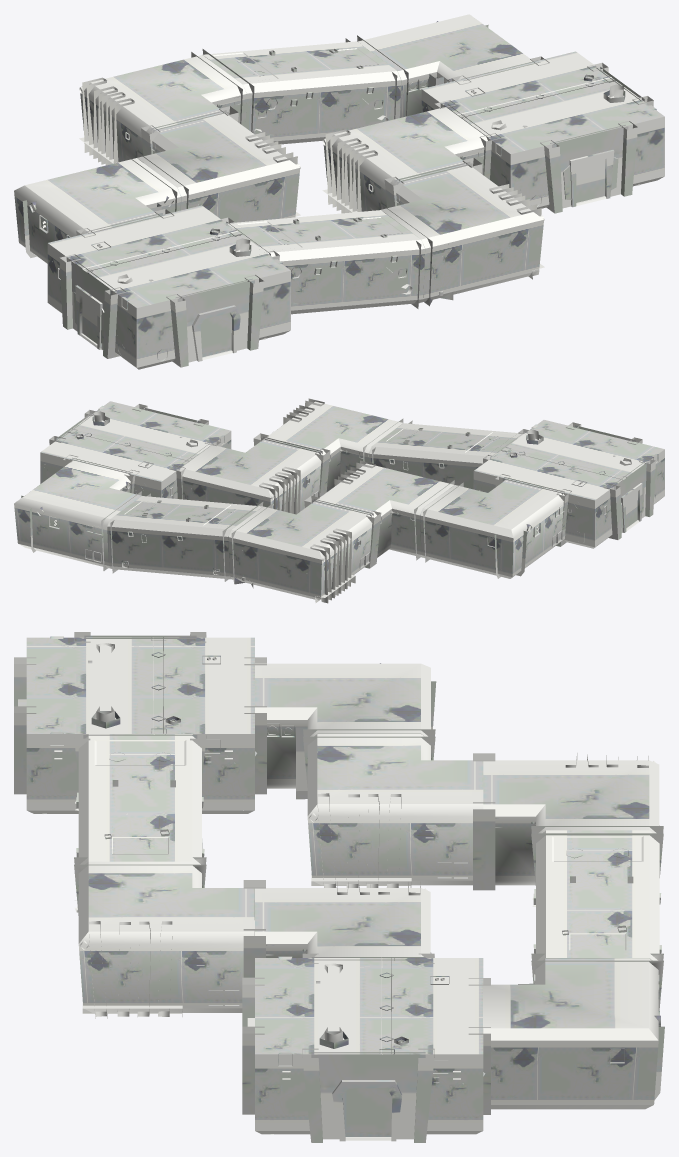
The model's file is Combined_Mesh_root_scene__0_a34a996a__zombies2_diffuse_11_814463c1_c1f257.obj.
The picture shows the model from 3 angles, top to bottom: view 1: azimuth 30°, elevation 25°; view 2: azimuth 150°, elevation 25°; view 3: azimuth 270°, elevation 25°; orthographic projection. The views are drawn at different scales.
Size of the model in its own units: 81.89 by 12.64 by 57.04.
Materials: 170 (170 with a texture image).
